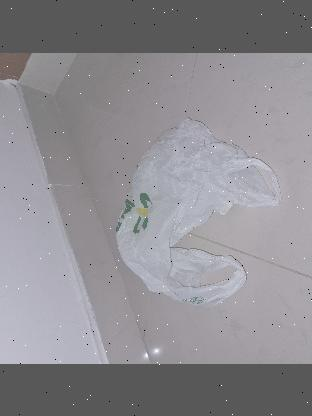Others: (112, 117, 278, 307)
